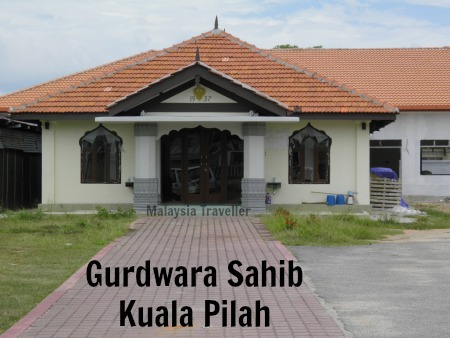Gurdwara: (18, 22, 386, 204)
